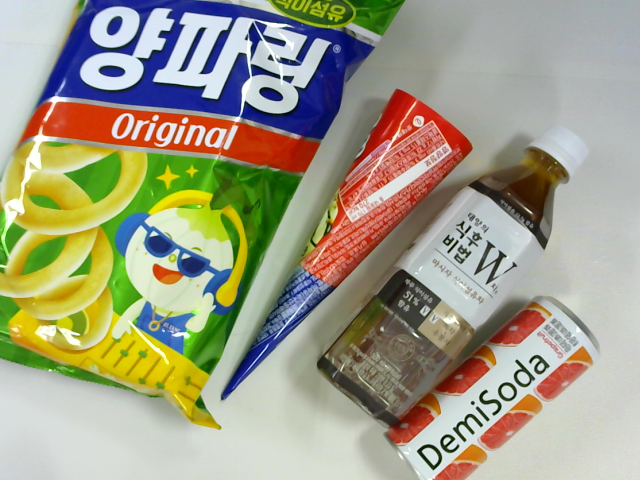Demisoda_Grapefruit_Can_250ml: (385, 296, 601, 480)
Oninon_Ring: (1, 1, 406, 429)
Post-meal_recipe_W_tea_500ml: (317, 123, 586, 431)
World_Cone_Banila: (221, 88, 473, 400)
